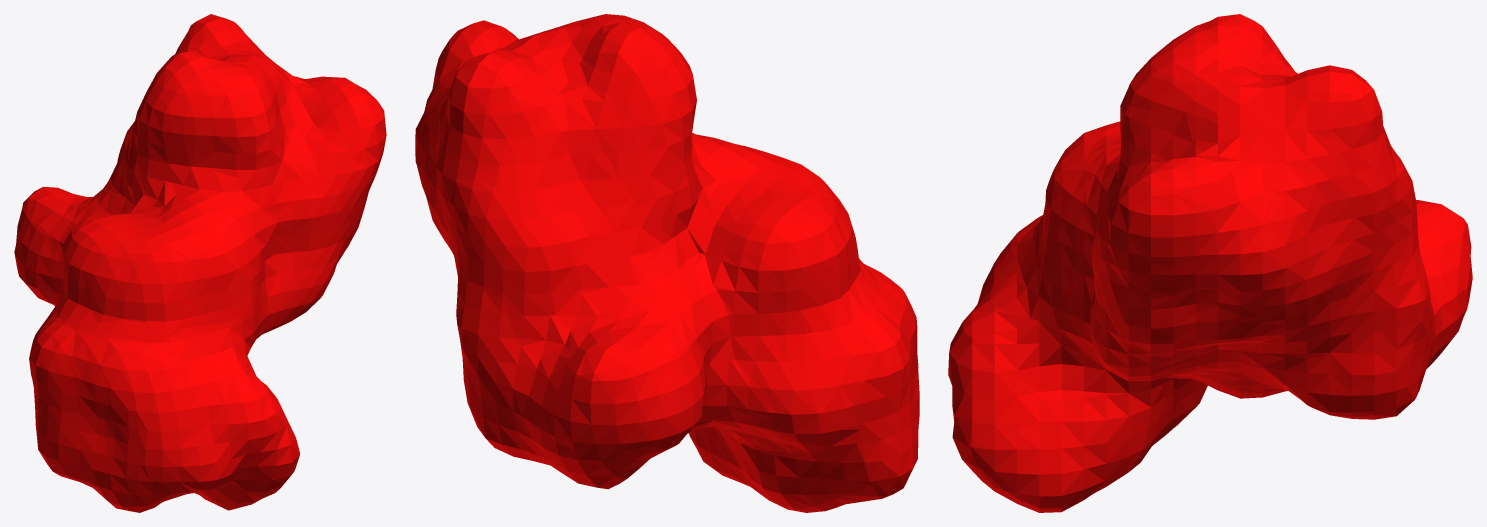
The model's file is ybiH_coarse.dae.
3 views of the same model, side by side, from view 1: azimuth 30°, elevation 25°; view 2: azimuth 150°, elevation 25°; view 3: azimuth 270°, elevation 25° (orthographic). The views are drawn at different scales.
Parts seen in each view (by area): view 1: ybiH; view 2: ybiH; view 3: ybiH.
Part boxes in pixels (x1,y1,x2,y2): ybiH: [14, 14, 386, 512]; ybiH: [415, 14, 919, 512]; ybiH: [948, 14, 1472, 512].
Size of the model in its own units: 53.43 by 57.63 by 53.83.
